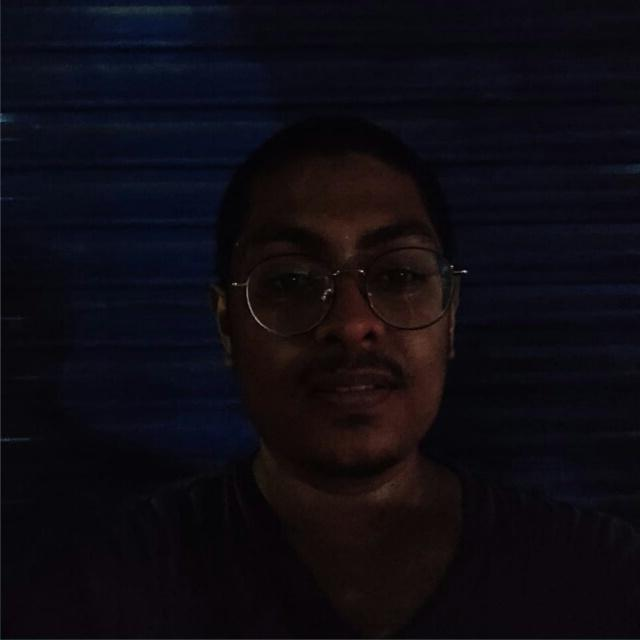Natural: (209, 169, 517, 538)
